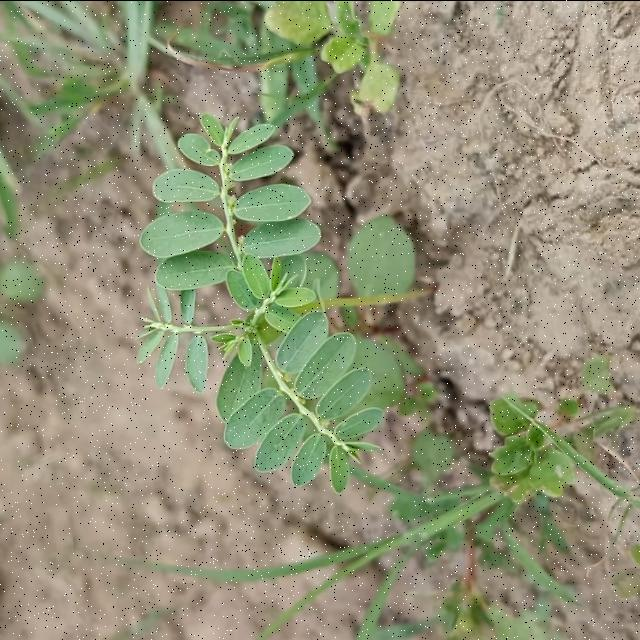plant: (137, 114, 420, 493)
